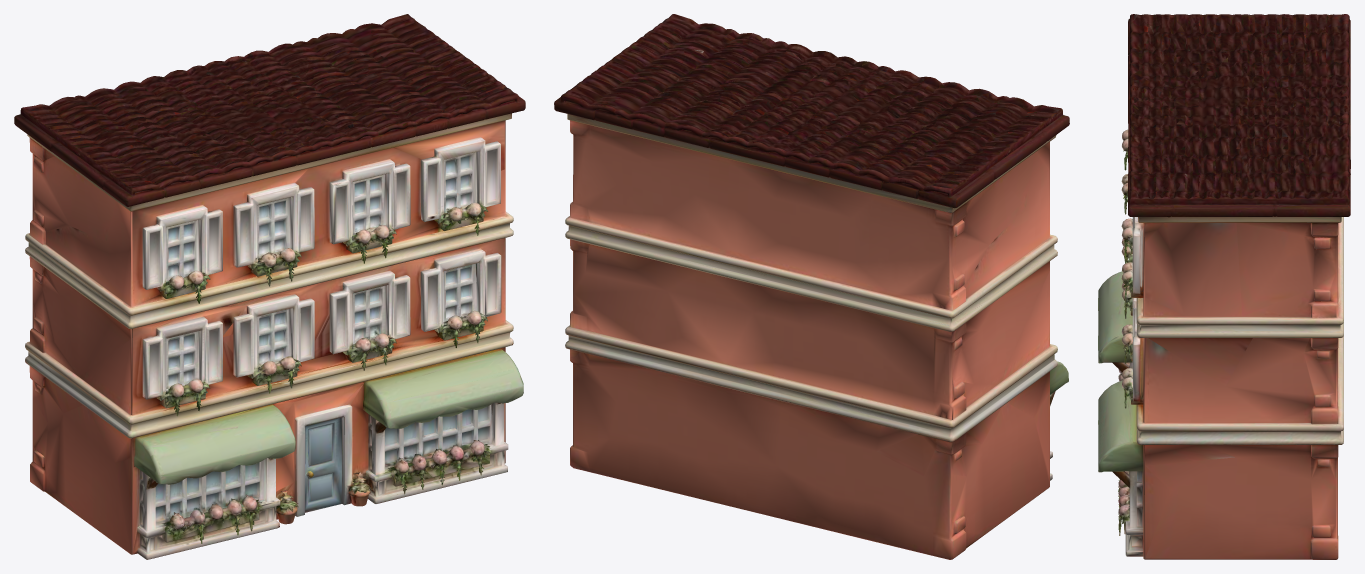
File: gedung-plaza-g09.glb
3 renders of one model, left to right at view 1: azimuth 30°, elevation 25°; view 2: azimuth 150°, elevation 25°; view 3: azimuth 270°, elevation 25°, orthographic. The views are drawn at different scales.
Parts seen in each view (by area): view 1: node_0; view 2: node_0; view 3: node_0.
Boxes of the visible parts, bbox=[...] form: node_0: bbox=[14, 14, 525, 559]; node_0: bbox=[554, 14, 1069, 559]; node_0: bbox=[1098, 14, 1350, 559].
Bounding box in the file's own units: 0.8432 × 0.7521 × 0.4718.
1 material, 1 textured.
